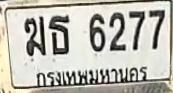2: (108, 11, 125, 50)
6: (88, 12, 104, 51)
7: (128, 10, 145, 50), (148, 9, 164, 49)
A06: (23, 16, 45, 56)
A24: (48, 14, 69, 54)
BKK: (33, 66, 152, 84)
